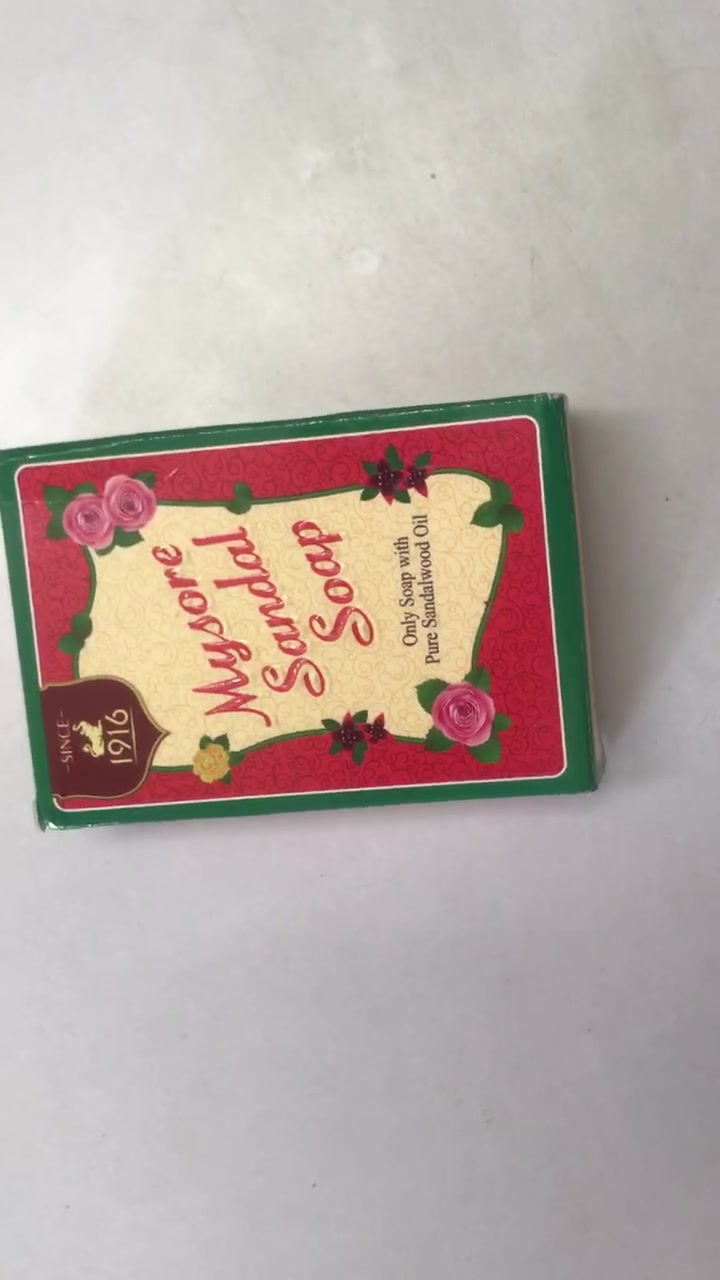mysore sandal soap: (5, 398, 601, 823)
